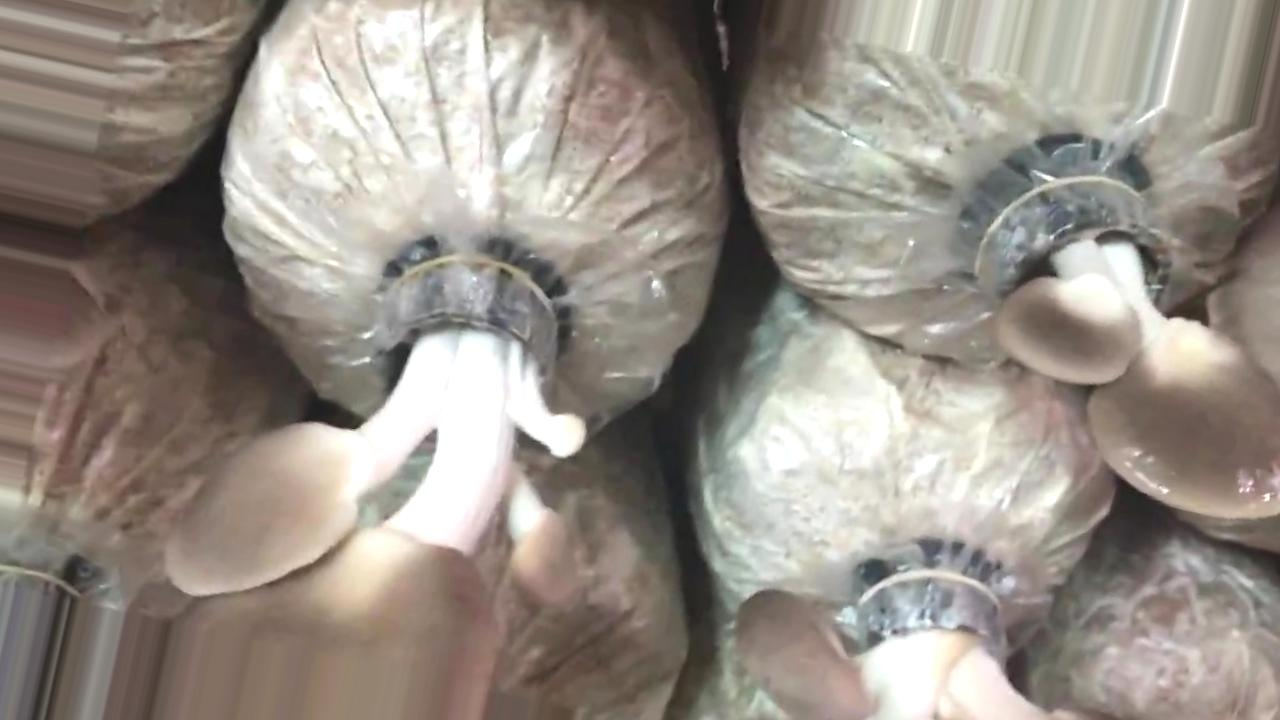nam: (153, 255, 589, 720), (985, 171, 1280, 515), (731, 562, 1008, 720)
